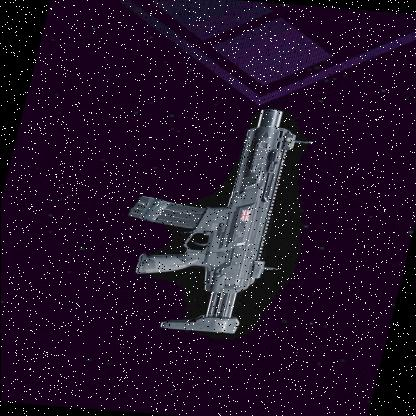rifle: (91, 92, 330, 341)
